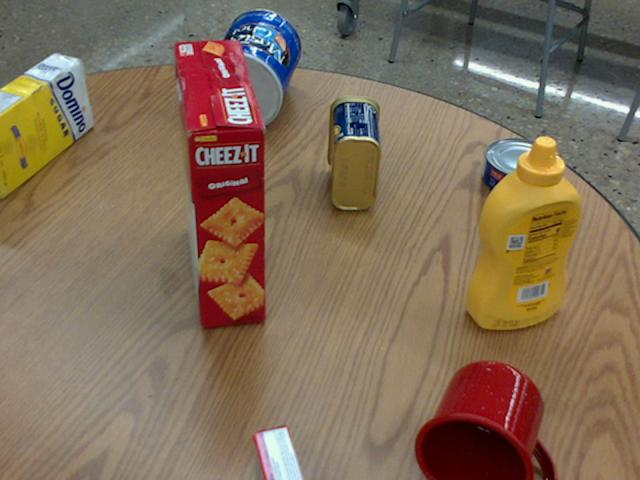cracker_box: (176, 42, 268, 327)
gelatin_box: (250, 427, 300, 479)
master_chef_can: (198, 9, 300, 129)
mug: (415, 361, 554, 479)
mustard_bottle: (465, 136, 582, 328)
potted_meat_can: (328, 95, 381, 209)
sugar_box: (0, 53, 92, 197)
tuna_fish_can: (482, 138, 557, 200)
